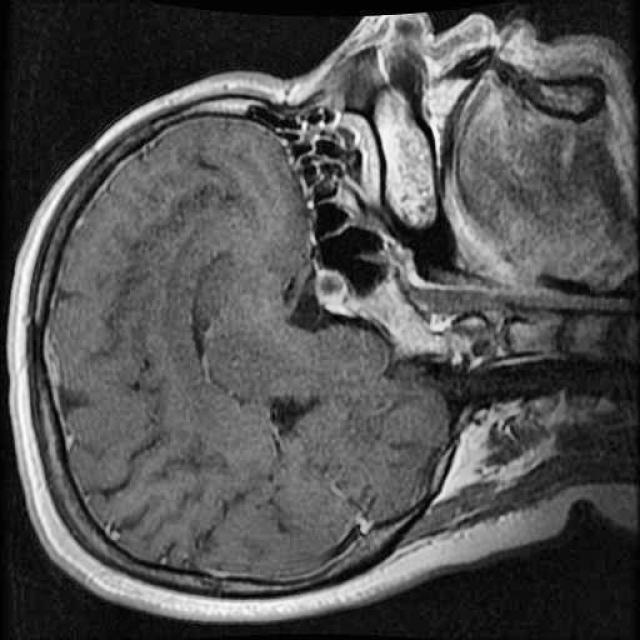Tumor: (306, 256, 359, 314)
